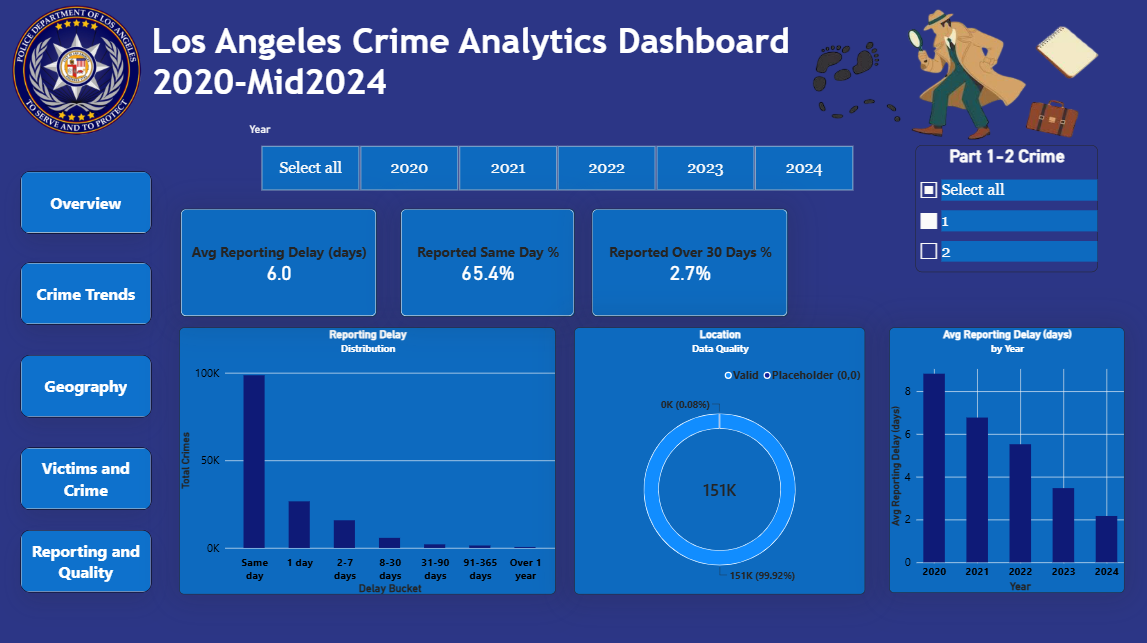

What the dashboard file says about the page in this screenshot:
{"tool":"powerbi","page":{"name":"Reporting and Quality","canvas":[1920,1080],"ordinal":4},"visuals":[{"type":"image","box":[18,8,221.4,220],"z":0},{"type":"actionButton","box":[38,286,218,104],"z":0,"group":"g1"},{"type":"group","id":"g1","title":"Group 1","box":[38,286,218,702],"z":1000},{"type":"actionButton","box":[38,438,218,104],"z":1000,"group":"g1"},{"type":"slicer","title":"Year","fields":{"Values":["Date Table.Year"]},"box":[418,204,1025,115],"z":2000},{"type":"actionButton","box":[38,592,218,104],"z":2000,"group":"g1"},{"type":"slicer","title":"Part 1-2 Crime","fields":{"Values":["Los_Angelas_Crime_Data_2020_24.Part 1-2"]},"box":[1529.2,241.7,304,212],"z":3000},{"type":"actionButton","box":[38,746,218,104],"z":3000,"group":"g1"},{"type":"columnChart","title":"Reporting Delay","fields":{"Category":["Los_Angelas_Crime_Data_2020_24.Delay Bucket"],"Y":["Los_Angelas_Crime_Data_2020_24.Total Crimes"]},"box":[302.5,545,627.5,445],"z":4000},{"type":"actionButton","box":[38,884,218,104],"z":4000,"group":"g1"},{"type":"cardVisual","fields":{"Data":["Los_Angelas_Crime_Data_2020_24.Avg Reporting Delay (days)"]},"box":[305,347.5,327.5,180],"z":5000},{"type":"cardVisual","fields":{"Data":["Los_Angelas_Crime_Data_2020_24.Reported Same Day %"]},"box":[670,347.5,290,180],"z":6000},{"type":"cardVisual","fields":{"Data":["Los_Angelas_Crime_Data_2020_24.Reported Over 30 Days %"]},"box":[990,347.5,327.5,180],"z":7000},{"type":"donutChart","title":"Location ","fields":{"Category":["Los_Angelas_Crime_Data_2020_24.Location Valid"],"Y":["Los_Angelas_Crime_Data_2020_24.Total Crimes"]},"box":[960,545,485,445],"z":8000},{"type":"clusteredColumnChart","fields":{"Category":["Date Table.Year"],"Y":["Los_Angelas_Crime_Data_2020_24.Avg Reporting Delay (days)"]},"box":[1486,546,392,442],"z":9000},{"type":"textbox","box":[255.2,32.9,1130,170.8],"z":10000},{"type":"image","box":[1270,0,650,262.5],"z":10001}]}

Visuals, with their boxes in screenshot pixels (x1, y1, x2, y2), scaled from the page's 1920x1080 canvas onto the 1147x643 screenshot:
image: 11/5/143/136
actionButton: 23/170/153/232
"Group 1" group: 23/170/153/588
actionButton: 23/261/153/323
"Year" slicer: 250/121/862/190
actionButton: 23/352/153/414
"Part 1-2 Crime" slicer: 914/144/1095/270
actionButton: 23/444/153/506
"Reporting Delay" columnChart: 181/324/556/589
actionButton: 23/526/153/588
cardVisual - Los_Angelas_Crime_Data_2020_24.Avg Reporting Delay (days): 182/207/378/314
cardVisual - Los_Angelas_Crime_Data_2020_24.Reported Same Day %: 400/207/574/314
cardVisual - Los_Angelas_Crime_Data_2020_24.Reported Over 30 Days %: 591/207/787/314
"Location " donutChart: 574/324/863/589
clusteredColumnChart - Date Table.Year x Los_Angelas_Crime_Data_2020_24.Avg Reporting Delay (days): 888/325/1122/588
textbox: 152/20/828/121
image: 759/0/1146/156
